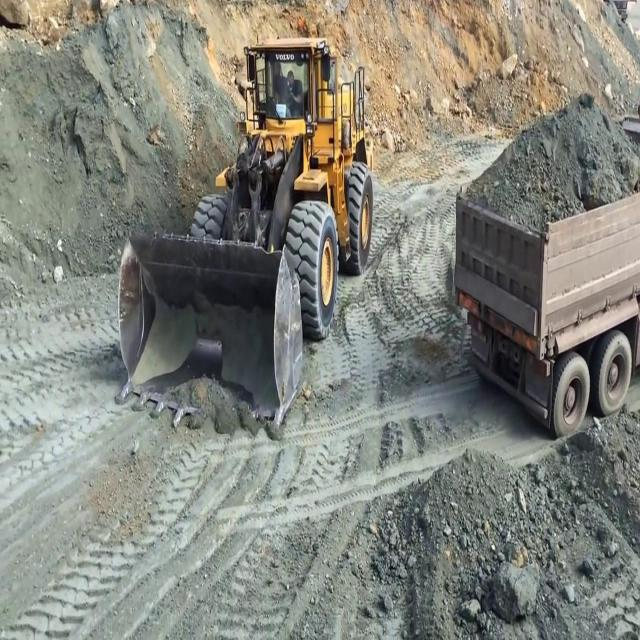Dump Truck: (445, 106, 639, 443)
Loader: (109, 28, 379, 436)
